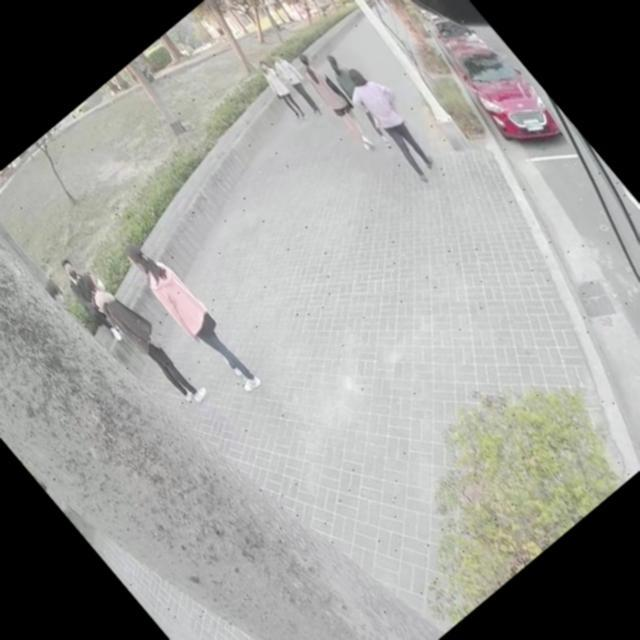person: (118, 230, 266, 398), (78, 262, 208, 409), (333, 57, 445, 180), (293, 51, 381, 152), (54, 256, 129, 340), (266, 46, 324, 111), (253, 58, 310, 120), (38, 276, 92, 337), (318, 48, 368, 102)
